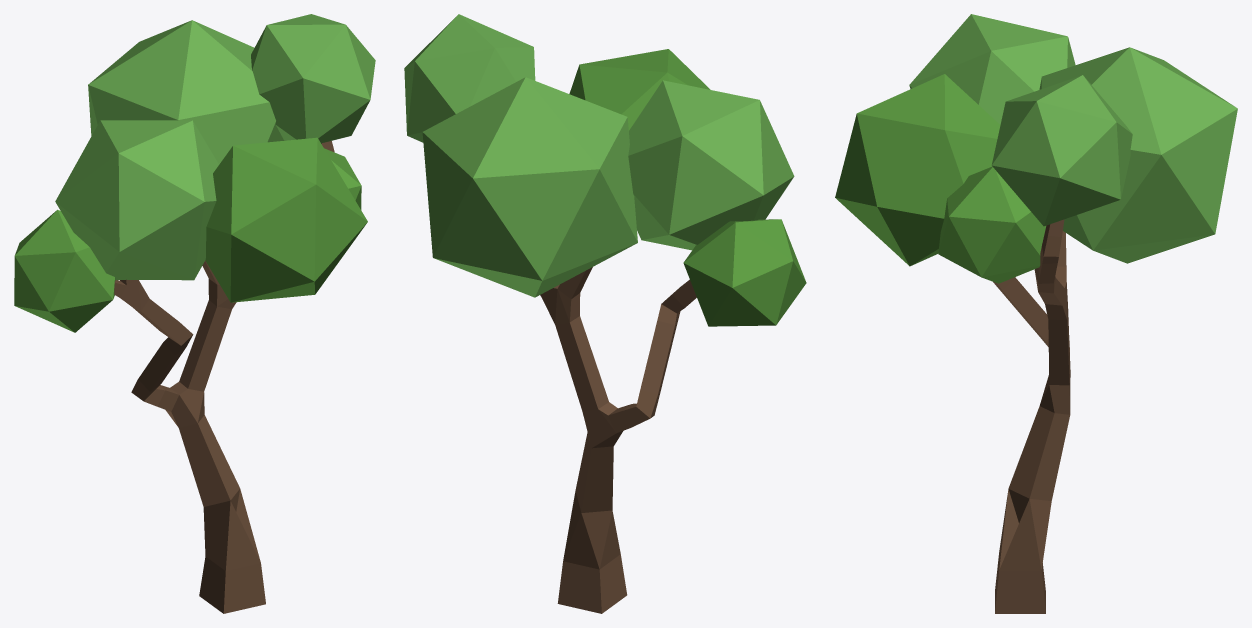
File: ico_tree.glb
3 renders of one model, left to right at view 1: azimuth 30°, elevation 25°; view 2: azimuth 150°, elevation 25°; view 3: azimuth 270°, elevation 25°, orthographic. The views are drawn at different scales.
Parts seen in each view (by area): view 1: Cube; view 2: Cube; view 3: Cube.
Part boxes in pixels (x1,y1,x2,y2): Cube: [14, 14, 375, 613]; Cube: [404, 14, 806, 613]; Cube: [835, 14, 1237, 613].
Bounding box in the file's own units: 9.23 × 12.96 × 8.4.
